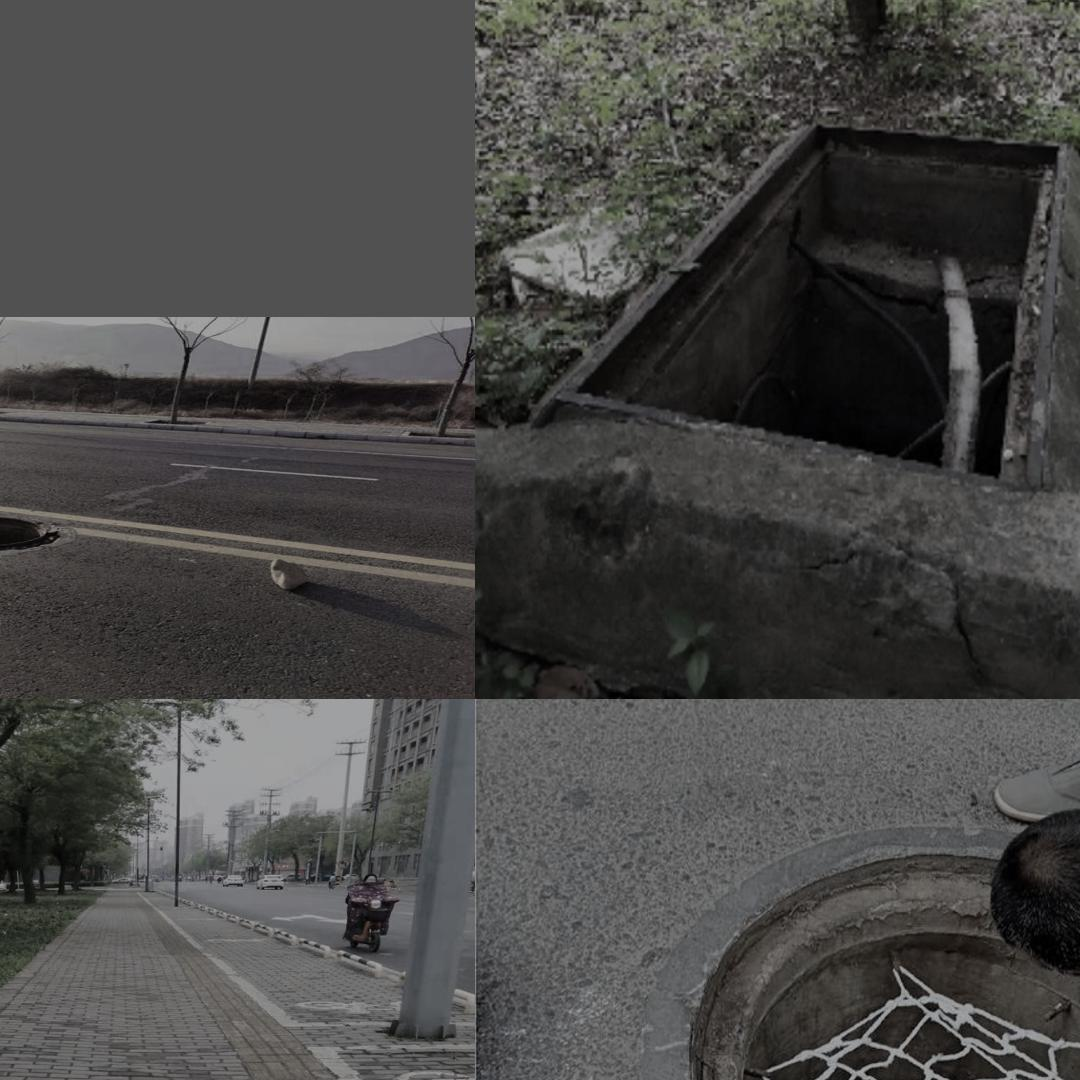lose: (531, 119, 1071, 491), (665, 830, 1080, 1080), (0, 509, 81, 559)
